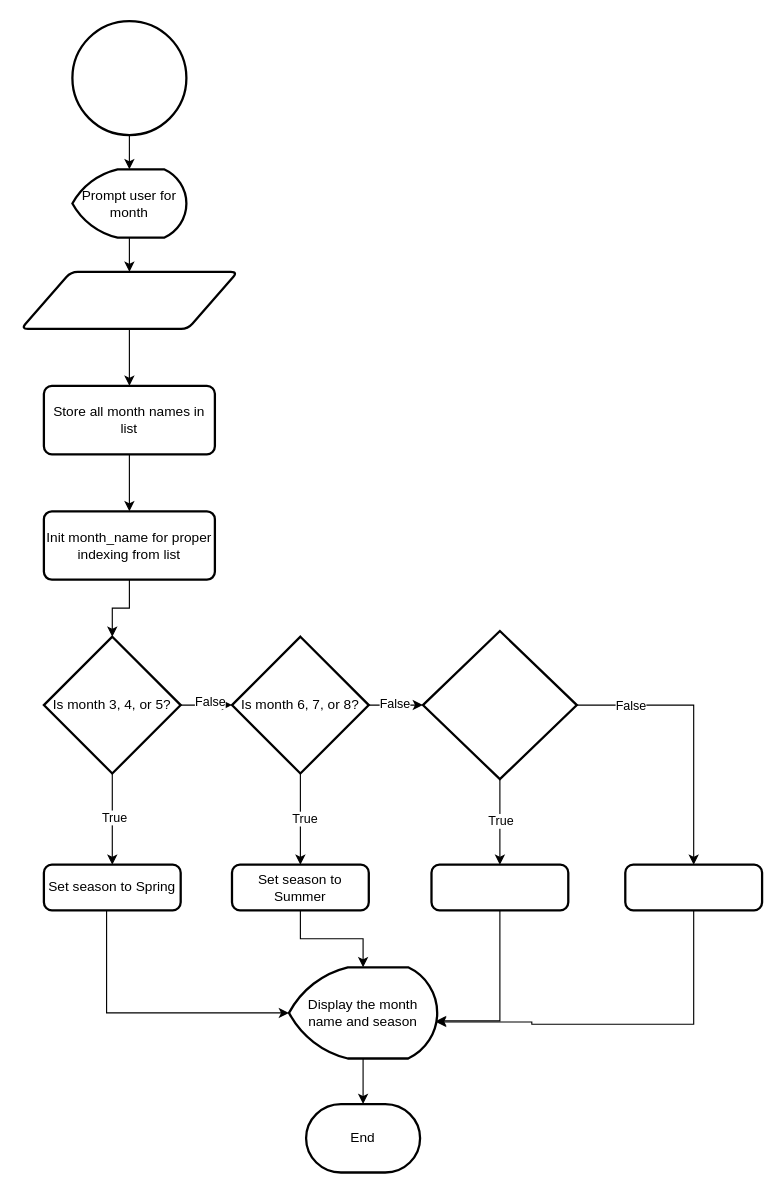
The diagram is 782 pixels wide and 1192 high, and some of its shapes have lost their labels. Each missing label, with the centre of its shape:
Get int, store in month: the point at 128,299
Is month 9, 10, or 11?: the point at 499,704
Set season to Fall: the point at 499,887
Set season to Winter: the point at 693,887
Start: the point at 129,77
